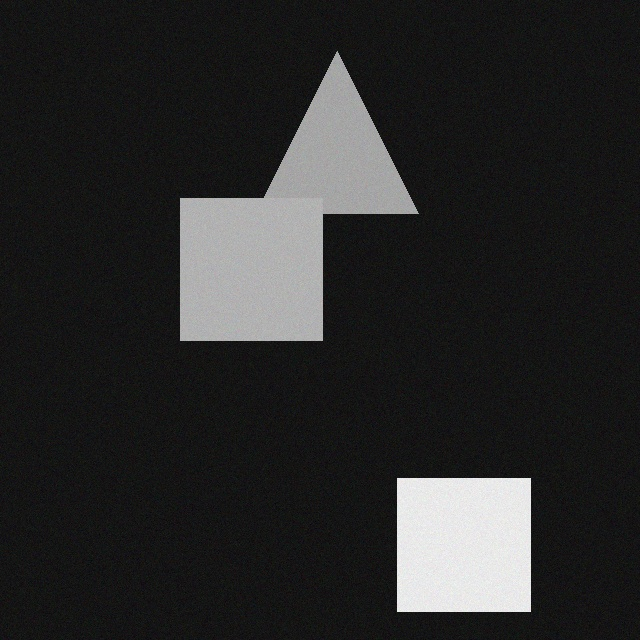square: (175, 193, 317, 335), (392, 473, 525, 606)
triangle: (251, 46, 413, 208)
